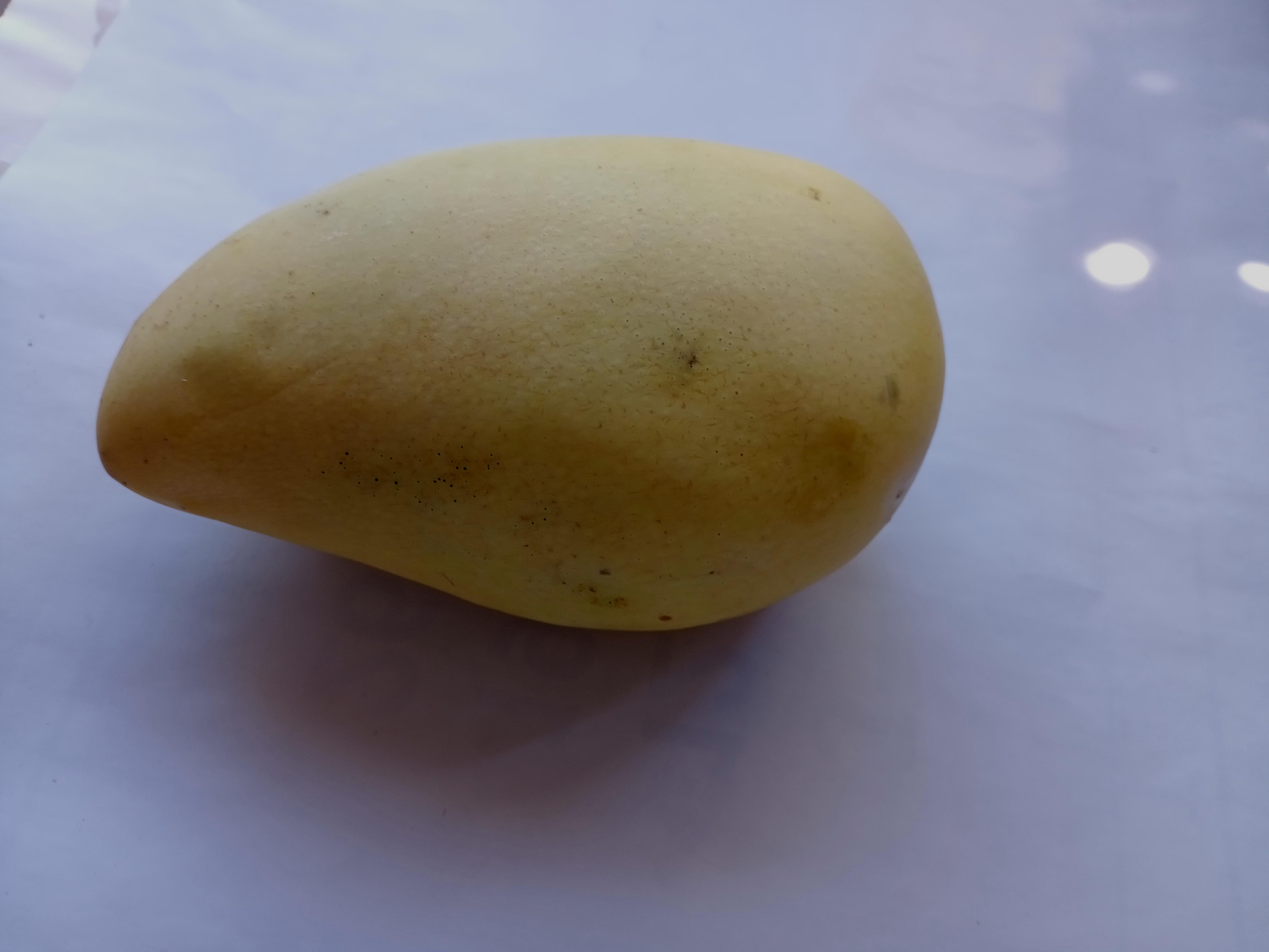Mango Ripe: (47, 77, 1014, 683)
